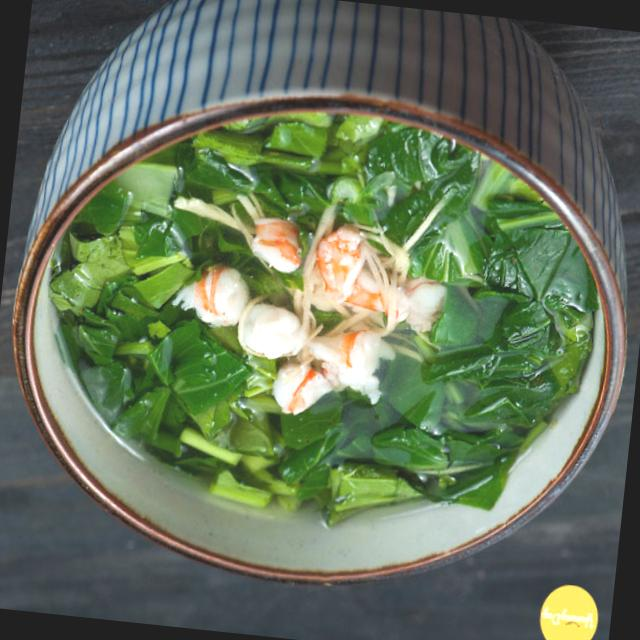canh cai: (49, 113, 587, 526)
